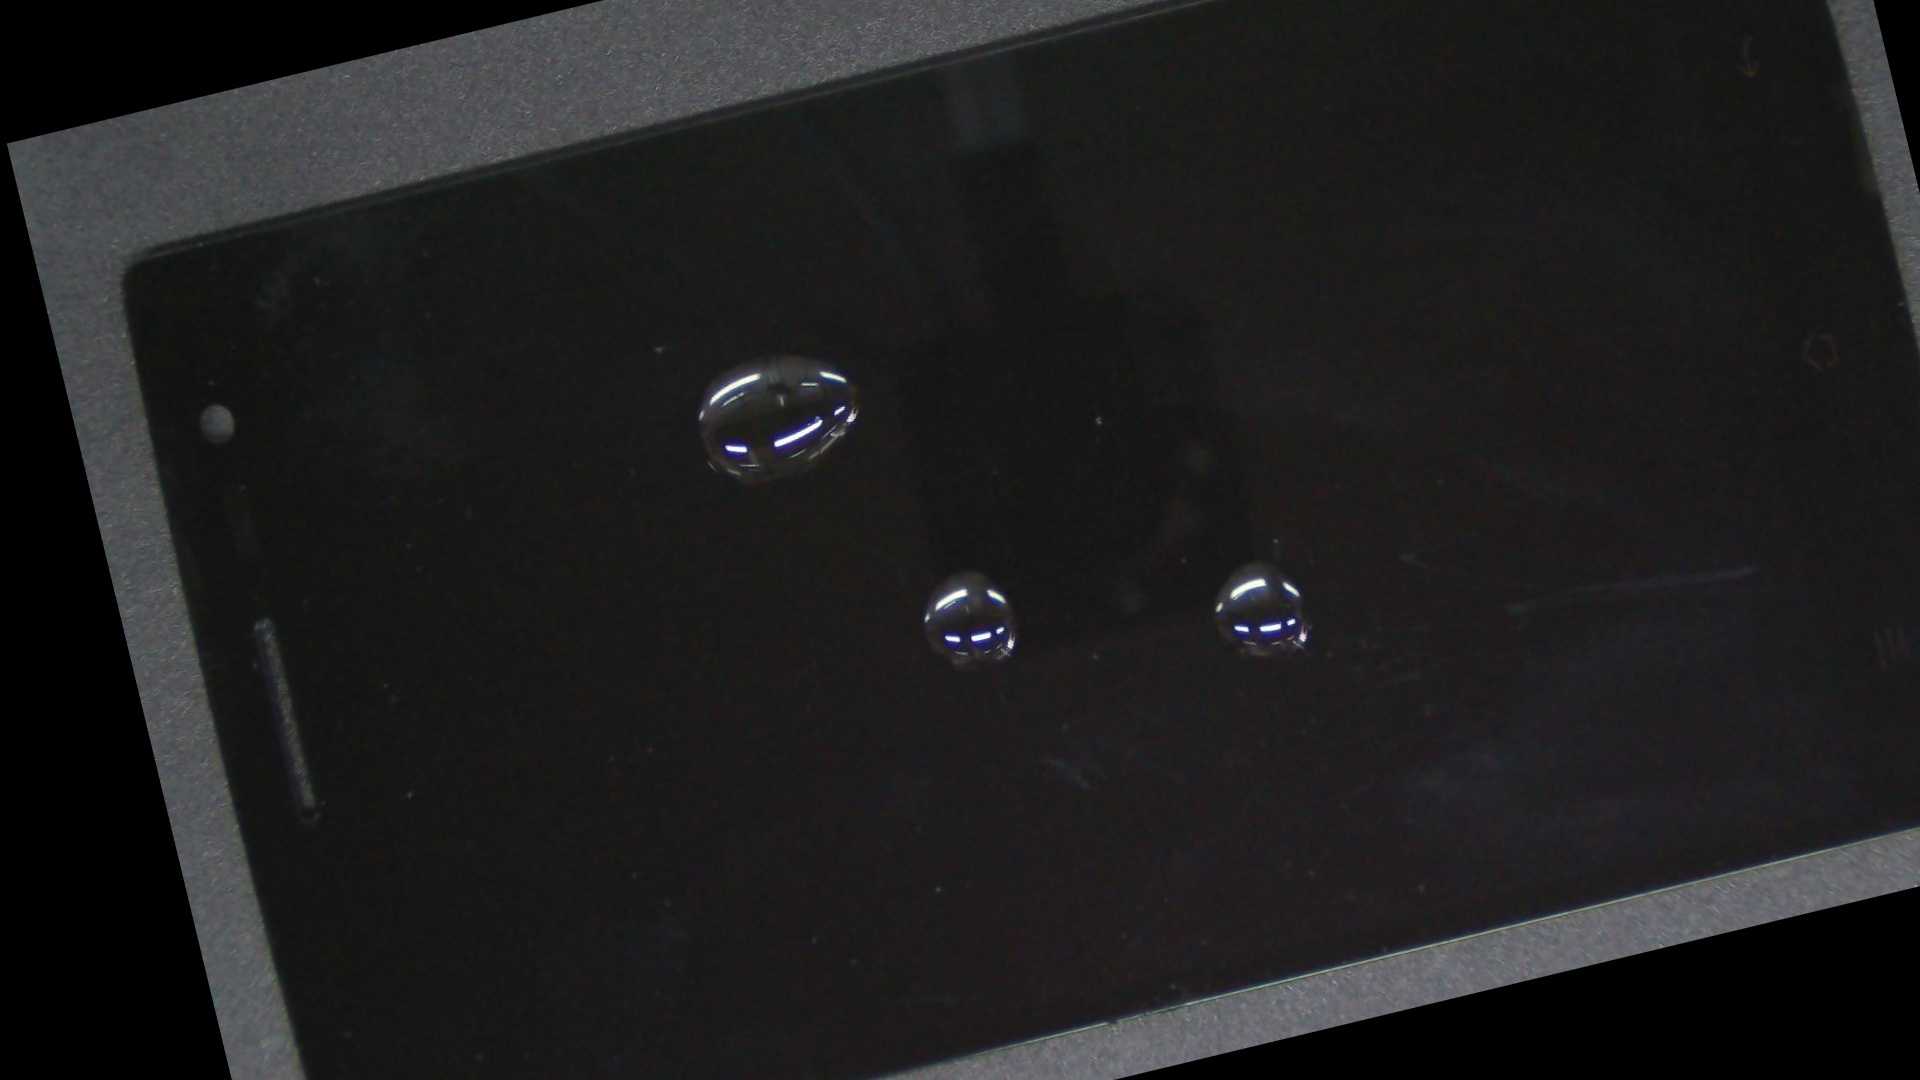oil: (628, 94, 1867, 1033), (481, 165, 1431, 980), (382, 91, 1133, 622)
